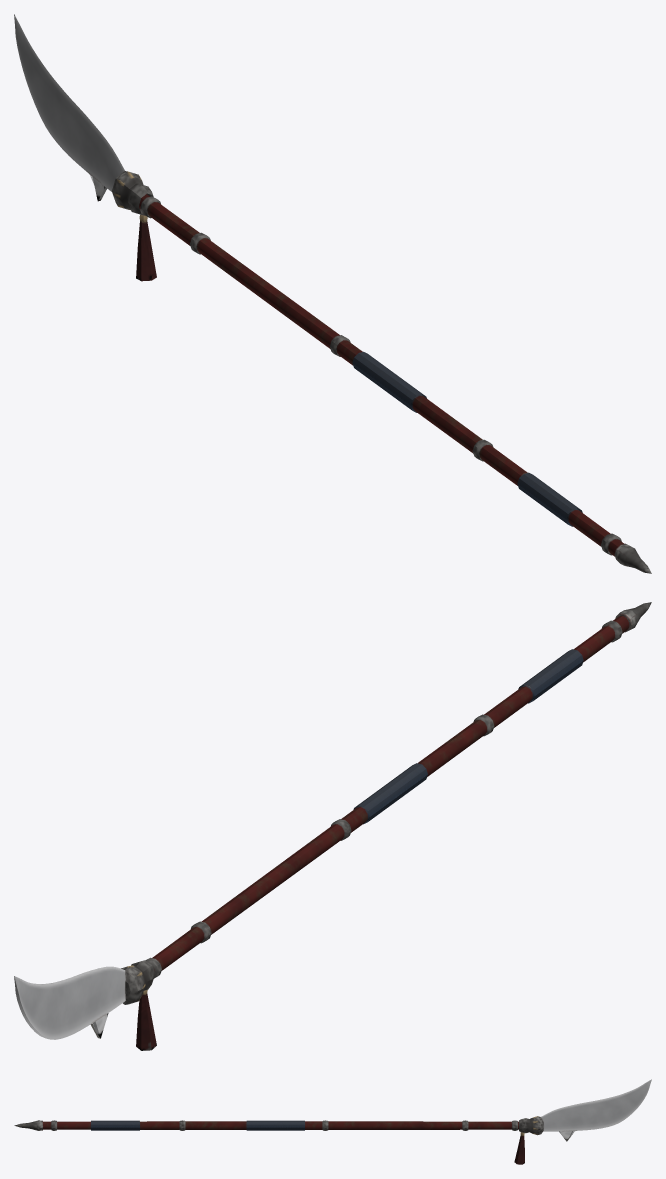
The model's file is Zhao_Guandao_v2.glb.
The picture shows the model from 3 angles, top to bottom: view 1: azimuth 30°, elevation 25°; view 2: azimuth 150°, elevation 25°; view 3: azimuth 270°, elevation 25°; orthographic projection. The views are drawn at different scales.
Parts seen in each view (by area): view 1: Zhao_GuandaoHaft, Zhao_GuandaoBlade; view 2: Zhao_GuandaoHaft, Zhao_GuandaoBlade; view 3: Zhao_GuandaoHaft, Zhao_GuandaoBlade.
Part boxes in pixels (x1=…): Zhao_GuandaoHaft: x1=139, y1=194, x2=651, y2=573; Zhao_GuandaoBlade: x1=14, y1=14, x2=156, y2=281; Zhao_GuandaoHaft: x1=146, y1=602, x2=651, y2=978; Zhao_GuandaoBlade: x1=14, y1=960, x2=156, y2=1050; Zhao_GuandaoHaft: x1=14, y1=1120, x2=518, y2=1130; Zhao_GuandaoBlade: x1=514, y1=1079, x2=651, y2=1164.
Size of the model in its own units: 0.29 by 1.59 by 10.94.
1 material, 1 textured.
